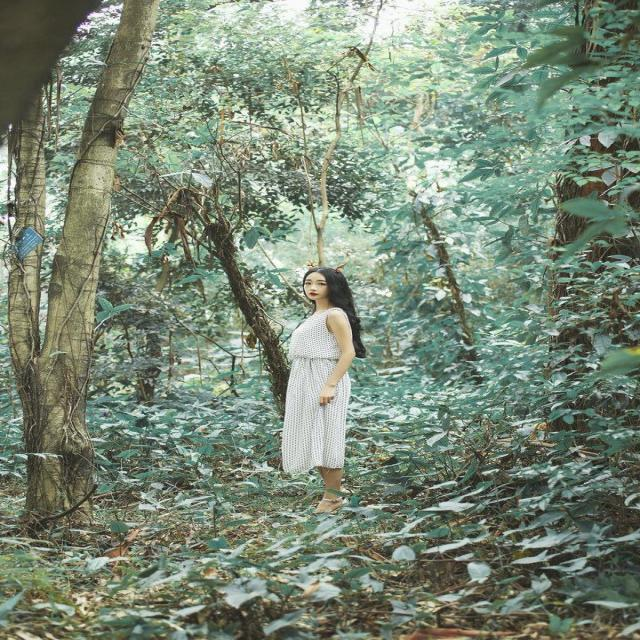vest dress: (285, 308, 348, 472)
